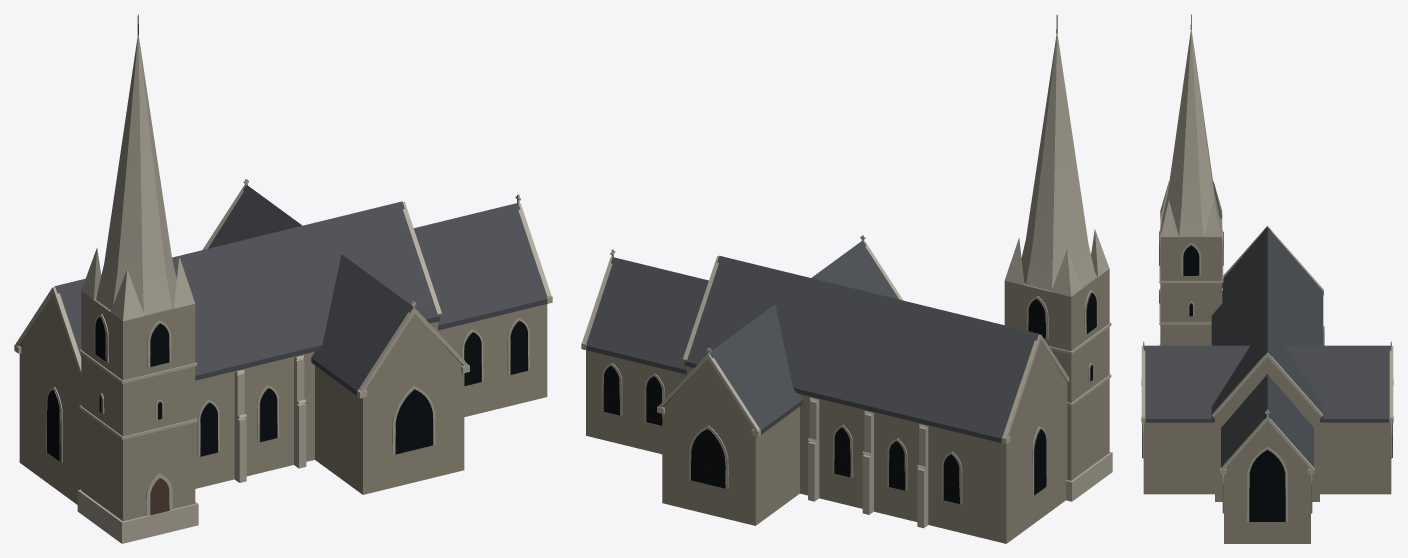
Rendered from context.church.town_cruciform.glb.
3 renders of one model, left to right at view 1: azimuth 30°, elevation 25°; view 2: azimuth 150°, elevation 25°; view 3: azimuth 270°, elevation 25°, orthographic. The views are drawn at different scales.
Parts seen in each view (by area): view 1: main__stone_987, main__clad_455, main__stone_ba9, main__glass_dark, main__stone_887; view 2: main__stone_987, main__clad_455, main__stone_ba9, main__glass_dark; view 3: main__clad_455, main__stone_987, main__stone_ba9, main__glass_dark.
Boxes of the visible parts, box(x1,y1,x2,y2) form: main__stone_987: box(19, 291, 547, 521); main__clad_455: box(20, 185, 546, 395); main__stone_ba9: box(14, 35, 552, 543); main__glass_dark: box(47, 317, 527, 461); main__stone_887: box(46, 316, 528, 514); main__stone_987: box(586, 269, 1109, 543); main__clad_455: box(586, 240, 1067, 442); main__stone_ba9: box(581, 33, 1112, 528); main__glass_dark: box(603, 292, 1096, 503); main__clad_455: box(1143, 226, 1391, 467); main__stone_987: box(1143, 218, 1391, 543); main__stone_ba9: box(1141, 30, 1393, 521); main__glass_dark: box(1142, 231, 1392, 521).
Bounding box in the file's own units: 32.62 × 33.3 × 20.35.
